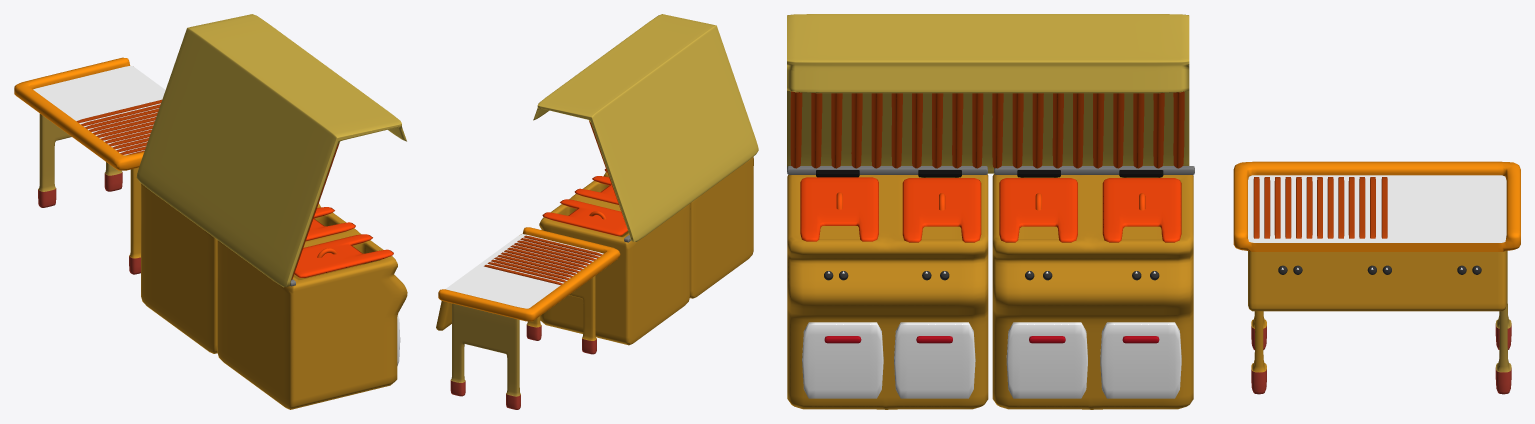
The model's file is kızartma, fritöz.fbx.
The picture shows the model from 3 angles, left to right: view 1: azimuth 30°, elevation 25°; view 2: azimuth 150°, elevation 25°; view 3: azimuth 270°, elevation 25°; orthographic projection. The views are drawn at different scales.
Visible parts, largest first — view 1: polySurface54, polySurface105, polySurface104, polySurface103, polySurface76, polySurface23, polySurface60, polySurface73, polySurface107, polySurface92, polySurface36; view 2: polySurface54, polySurface104, polySurface105, polySurface103, polySurface73, polySurface23, polySurface76, polySurface55, polySurface107, polySurface92, polySurface34, polySurface106; view 3: polySurface54, polySurface104, polySurface105, polySurface23, polySurface106, polySurface103, polySurface76, polySurface50, polySurface12, polySurface20, polySurface52, polySurface55 (+10 smaller).
Boxes of the visible parts, x1,y1,x2,y2 form: polySurface54: (136, 14, 406, 287); polySurface105: (217, 212, 407, 409); polySurface104: (141, 183, 320, 353); polySurface103: (33, 66, 165, 155); polySurface76: (14, 57, 144, 170); polySurface23: (76, 99, 339, 279); polySurface60: (294, 234, 393, 277); polySurface73: (38, 113, 122, 191); polySurface107: (129, 167, 140, 258); polySurface92: (38, 172, 140, 274); polySurface36: (306, 207, 355, 241); polySurface54: (533, 14, 758, 241); polySurface104: (539, 181, 690, 345); polySurface105: (604, 157, 753, 298); polySurface103: (445, 234, 603, 308); polySurface73: (451, 303, 520, 396); polySurface23: (484, 121, 627, 284); polySurface76: (438, 227, 620, 321); polySurface55: (542, 199, 627, 235); polySurface107: (526, 275, 596, 340); polySurface92: (450, 325, 596, 409); polySurface34: (574, 176, 618, 204); polySurface106: (436, 301, 452, 330); polySurface54: (787, 14, 1189, 173); polySurface104: (992, 174, 1193, 409); polySurface105: (787, 174, 988, 409); polySurface23: (790, 91, 1387, 238); polySurface106: (1248, 251, 1506, 311); polySurface103: (1248, 175, 1506, 242); polySurface76: (1233, 161, 1520, 251); polySurface50: (1100, 322, 1181, 398); polySurface12: (802, 322, 883, 398); polySurface20: (894, 322, 975, 398); polySurface52: (1006, 322, 1087, 398); polySurface55: (1102, 178, 1181, 242).
Bounding box in the file's own units: 1.32 × 2.63 × 4.91.
